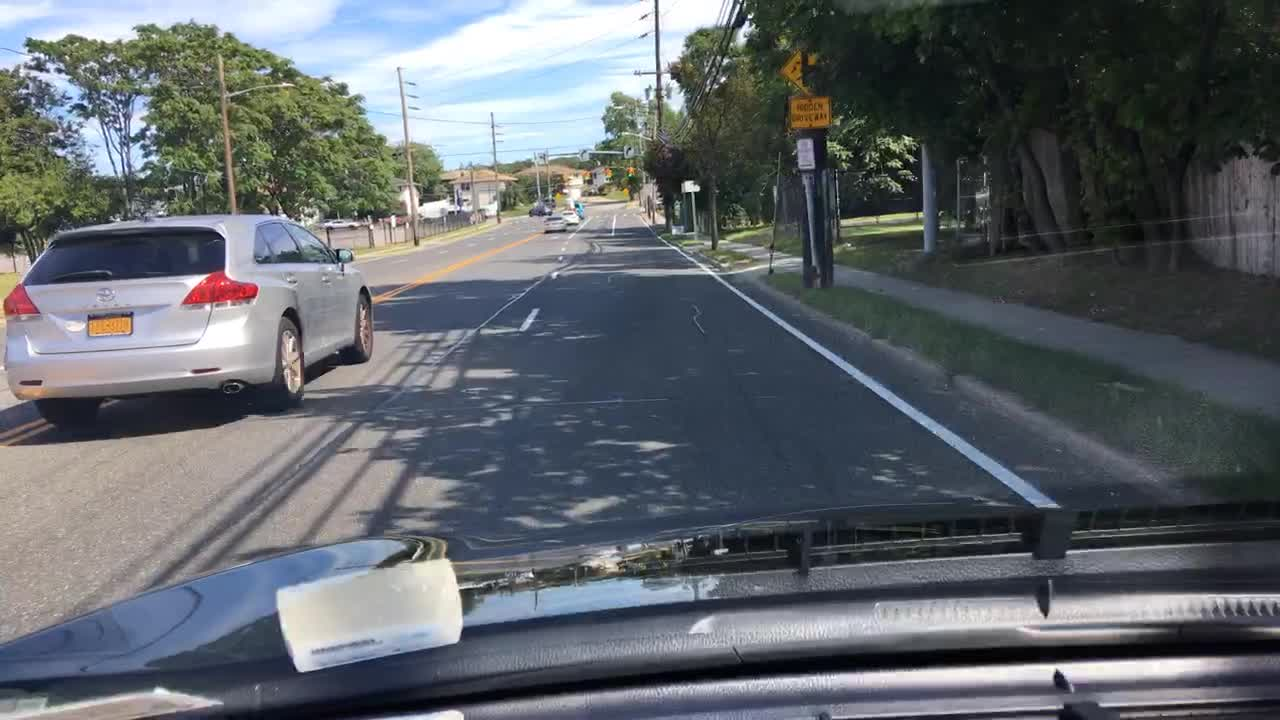car: (0, 212, 376, 432), (541, 214, 568, 236), (566, 208, 579, 225), (528, 205, 552, 213)
traffic light: (602, 166, 611, 180), (624, 165, 634, 177)
traffic sign: (783, 46, 822, 93), (788, 97, 832, 127), (794, 137, 816, 167), (679, 180, 701, 192), (576, 147, 590, 162), (623, 141, 633, 161), (539, 149, 552, 162)
